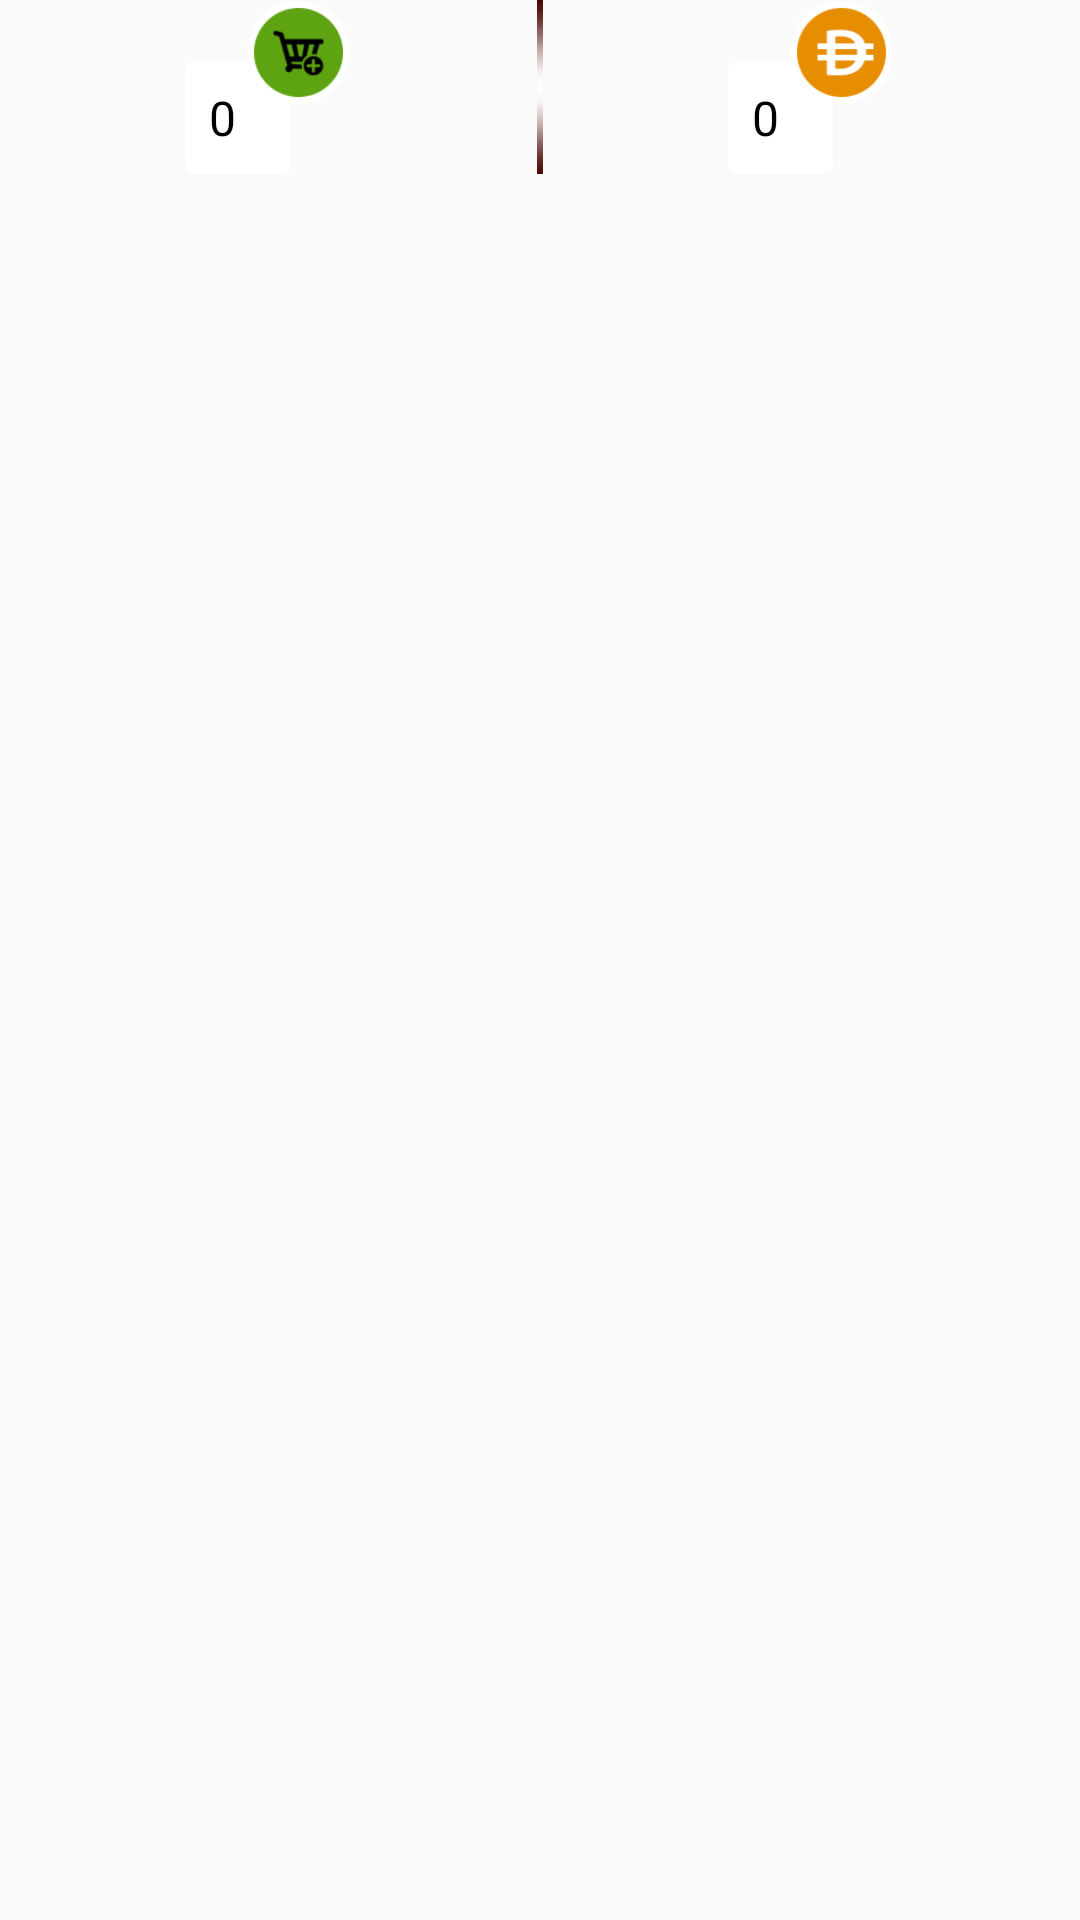

Icons on this 1080*1920 Android screen, each with the point to tap as point (x, y):
cart: point (298, 52)
